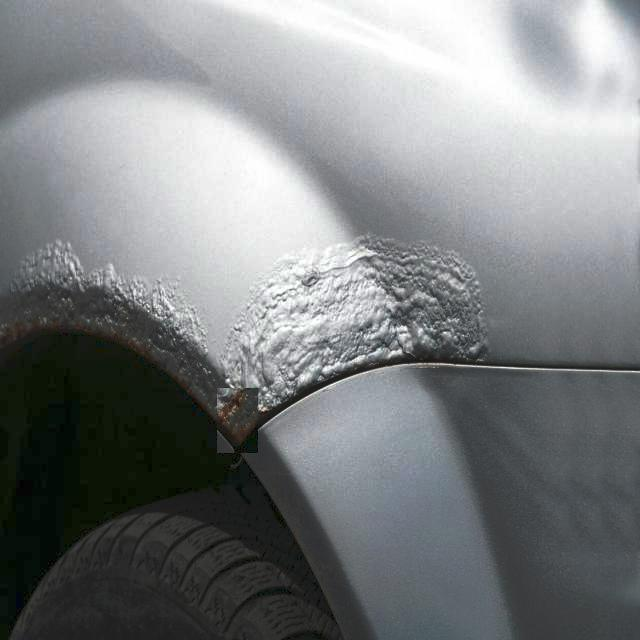Corrosion: (107, 315, 180, 382), (13, 303, 120, 342), (217, 395, 250, 448), (178, 370, 216, 414), (0, 323, 15, 346)
